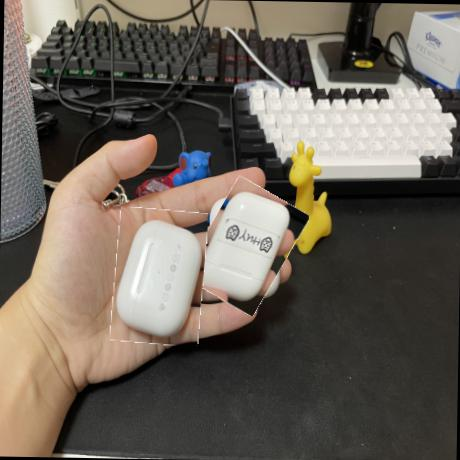airpod2: (192, 181, 299, 312)
airpod3: (112, 208, 206, 346)
